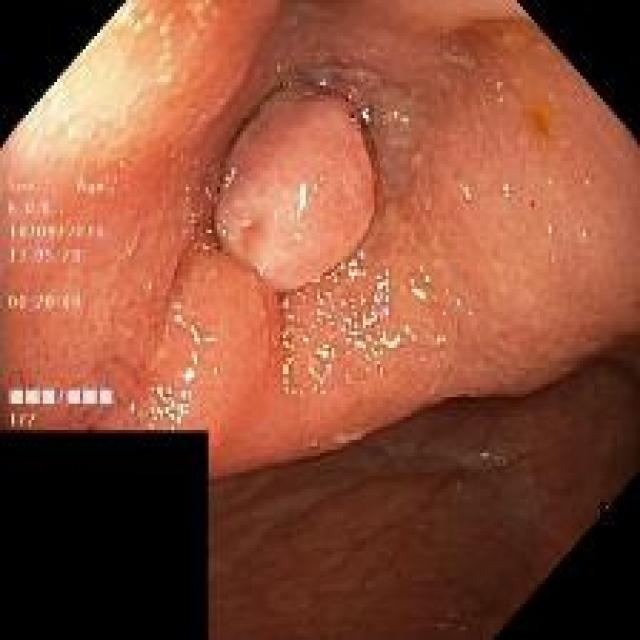Polyps: (215, 85, 375, 291)
